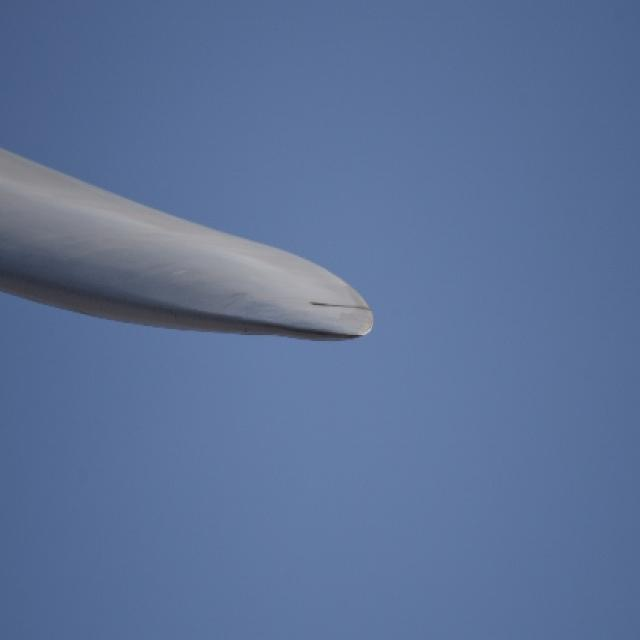Burn Mark: (311, 298, 369, 316)
